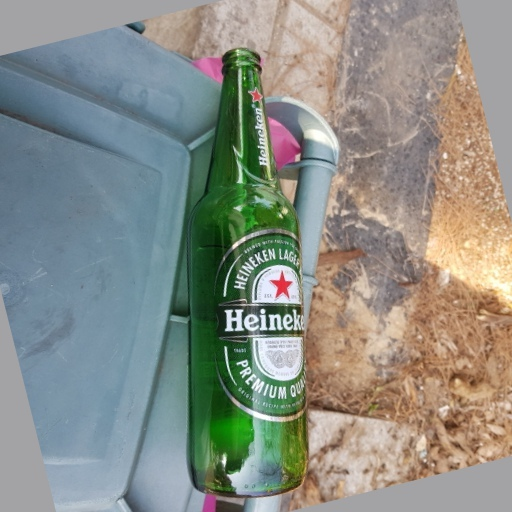Glass_1: (178, 51, 313, 498)
